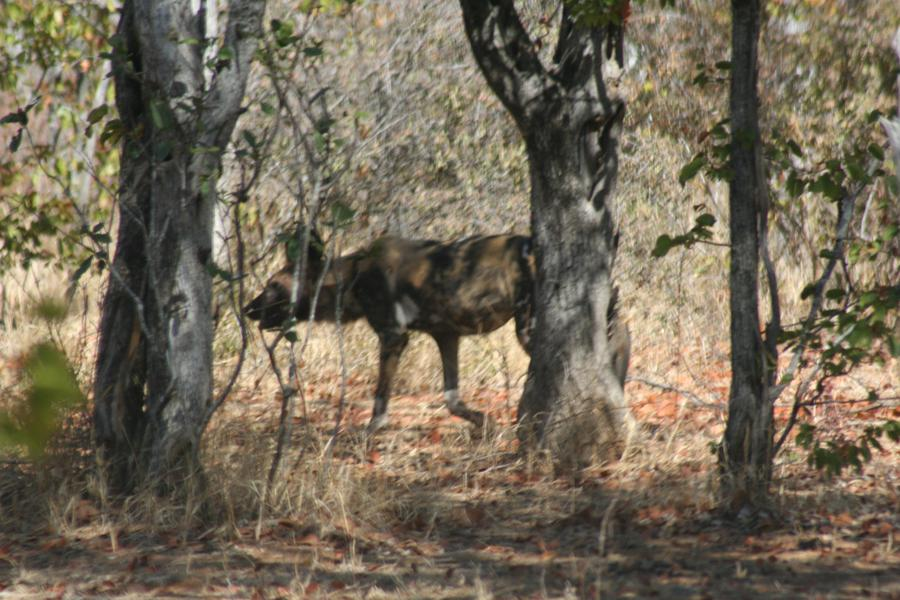wilddog: (259, 229, 526, 335)
